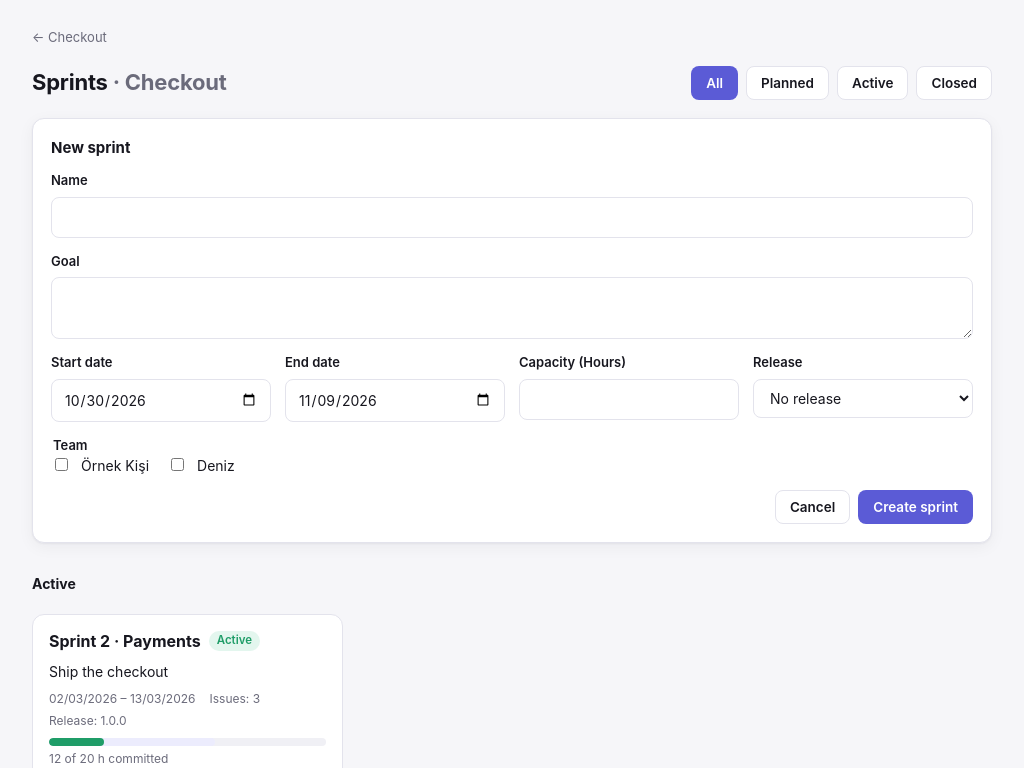
Test: the sprint list: a new sprint › shows the API's refusal
The width and height of the screenshot is (1024, 768).
Click the button "Create sprint" at (916, 507), box [858, 490, 973, 524]
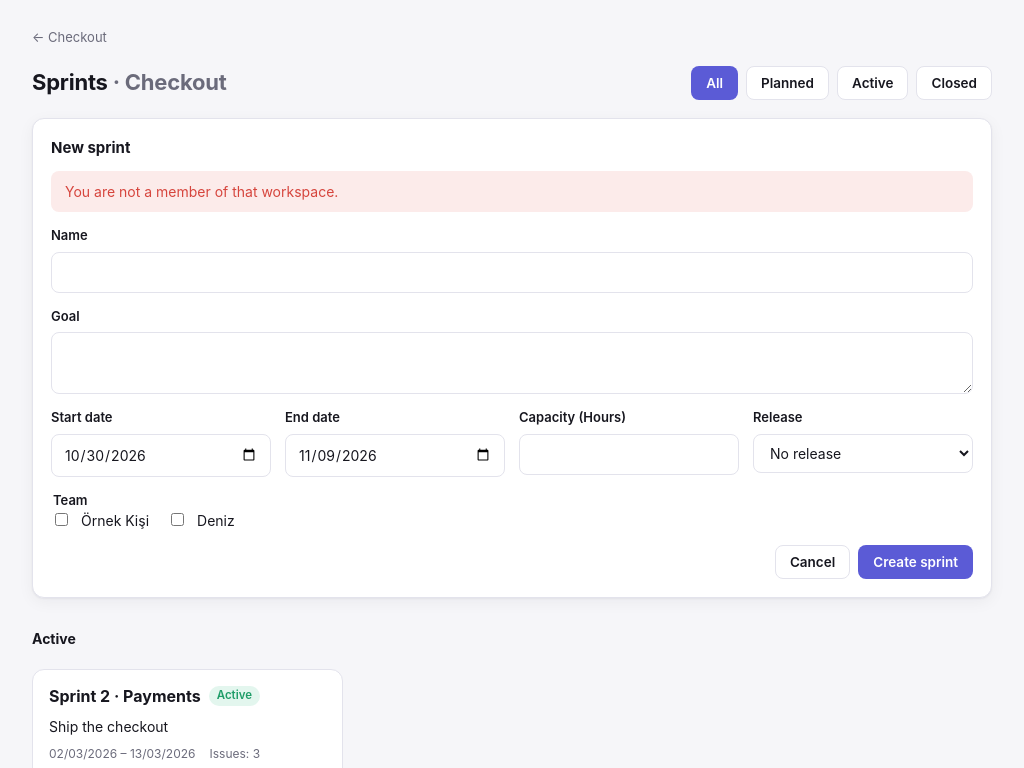
Check: the button "Create sprint" is enabled, box [858, 545, 973, 579]
Check: the text "You are not a member of that workspace." is shown, box [51, 171, 973, 212]
